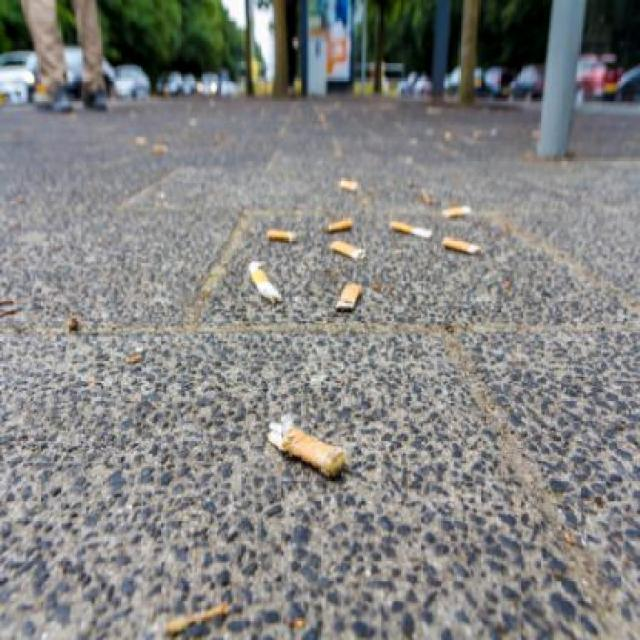cigarette: (259, 389, 359, 503), (386, 210, 442, 262), (316, 189, 366, 236), (246, 250, 280, 316), (437, 192, 483, 232), (261, 214, 308, 252), (449, 229, 497, 266), (335, 277, 363, 326), (328, 169, 370, 194), (330, 238, 368, 264)
